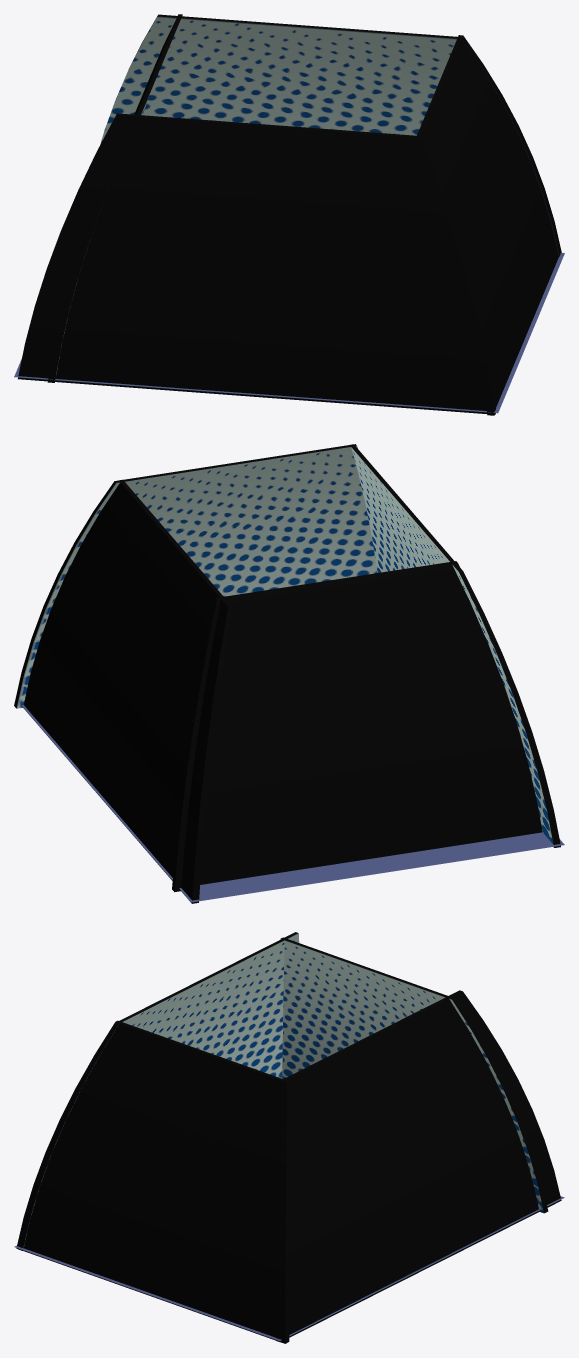
Rendered from Exhibit_Space_015.glb.
The picture shows the model from 3 angles, top to bottom: view 1: azimuth 30°, elevation 25°; view 2: azimuth 150°, elevation 25°; view 3: azimuth 270°, elevation 25°; orthographic projection. The views are drawn at different scales.
Parts seen in each view (by area): view 1: WallsFloor; view 2: WallsFloor; view 3: WallsFloor.
Boxes of the visible parts, box(x1,y1,x2,y2) form: WallsFloor: box(14, 14, 564, 415); WallsFloor: box(14, 444, 564, 903); WallsFloor: box(14, 932, 564, 1343).
Size of the model in its own units: 46.79 by 20 by 45.79.
Materials: 1 (1 with a texture image).
